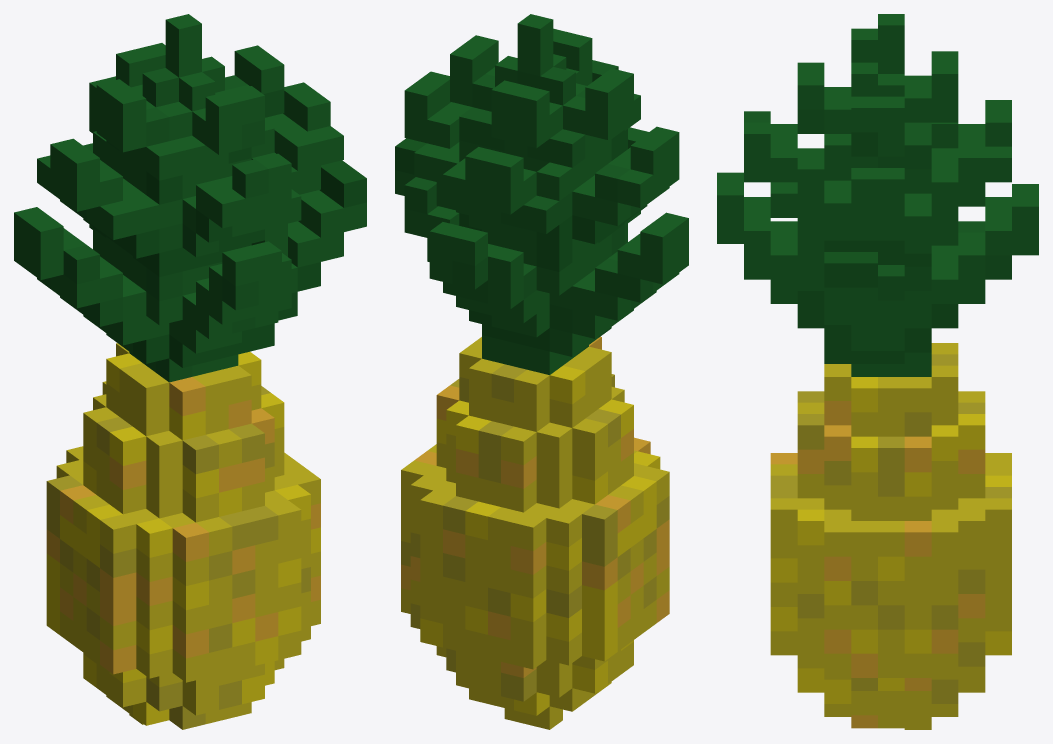
File: 0_4 abacx.obj
3 views of the same model, side by side, from view 1: azimuth 30°, elevation 25°; view 2: azimuth 150°, elevation 25°; view 3: azimuth 270°, elevation 25° (orthographic). The views are drawn at different scales.
Bounding box in the file's own units: 1.3 × 2.9 × 1.2.
Materials: 1 (1 with a texture image).
